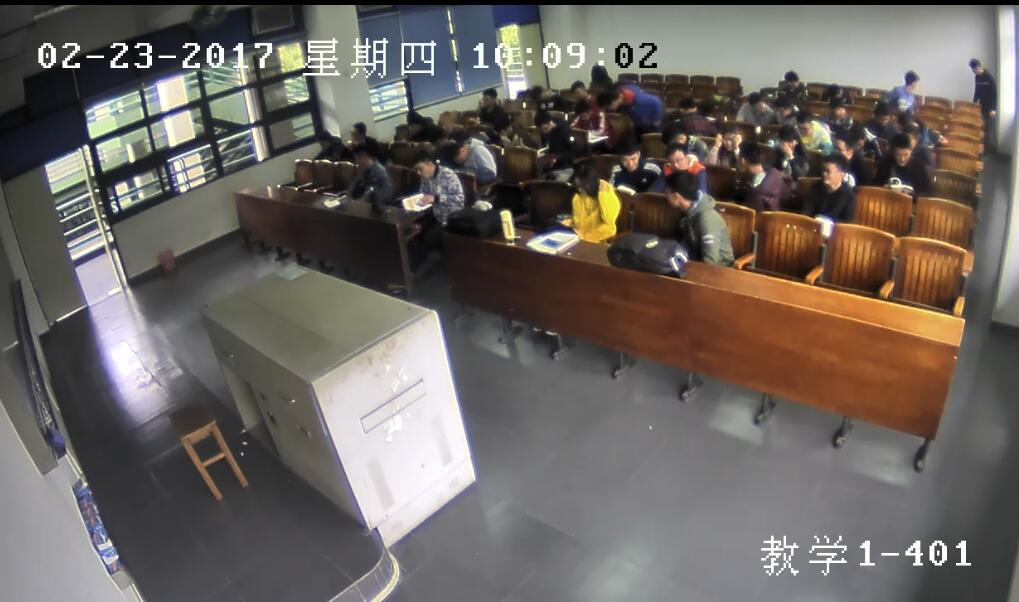head: (663, 169, 696, 211), (569, 160, 600, 193), (815, 154, 846, 187), (615, 136, 640, 174), (736, 139, 763, 171), (772, 125, 799, 157), (662, 143, 688, 172), (410, 148, 435, 178), (831, 132, 856, 161), (349, 143, 375, 170), (716, 124, 740, 153), (892, 134, 915, 164), (596, 85, 621, 112), (842, 124, 868, 148), (443, 141, 468, 164), (793, 108, 815, 134), (346, 119, 368, 143), (663, 123, 685, 147), (771, 93, 793, 117), (901, 125, 923, 148), (871, 102, 892, 126), (527, 82, 549, 103), (492, 114, 512, 137), (744, 91, 764, 114), (535, 112, 553, 135), (574, 98, 592, 121), (405, 113, 424, 134), (568, 78, 587, 99), (676, 95, 695, 116), (828, 99, 847, 120), (903, 68, 920, 91), (779, 71, 800, 88), (315, 130, 331, 150), (966, 56, 982, 76), (479, 88, 496, 106), (900, 110, 915, 129), (827, 82, 840, 97)
